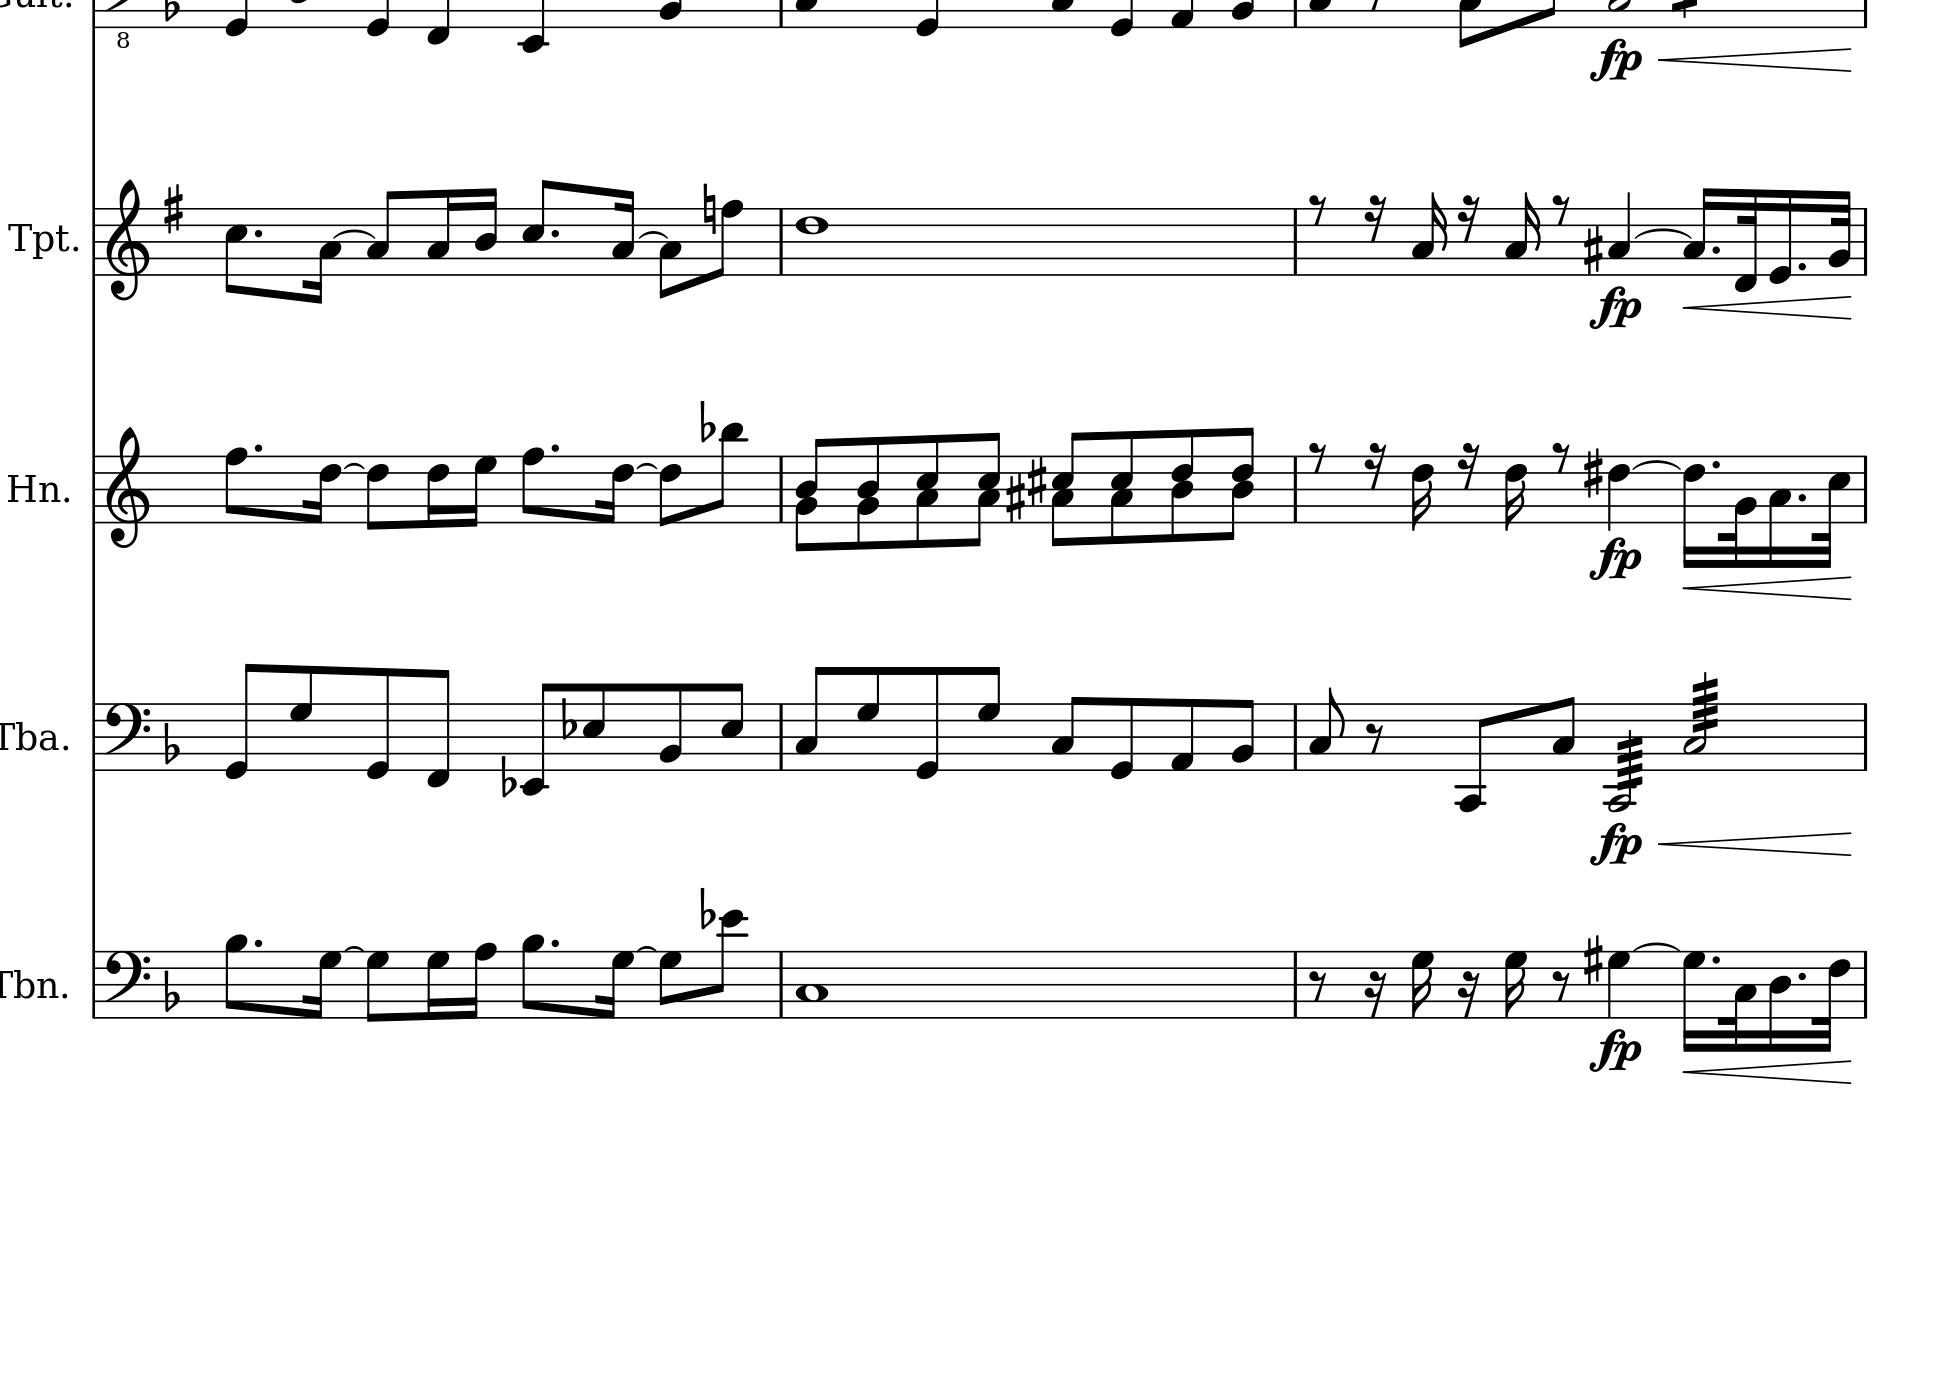16_0: (1767, 187, 1794, 286)
16_3: (303, 205, 340, 304), (1504, 190, 1542, 276), (1767, 453, 1794, 570), (1681, 184, 1716, 276), (1413, 190, 1449, 277), (424, 187, 459, 277), (610, 187, 636, 277)
16_4: (1767, 948, 1794, 1054), (472, 184, 499, 277)
16_6: (1681, 451, 1707, 568), (597, 454, 634, 526), (304, 453, 340, 526), (1503, 451, 1530, 532), (424, 453, 451, 529), (1410, 451, 1435, 532)
16_7: (1680, 946, 1707, 1054), (597, 948, 634, 1020), (304, 949, 342, 1020), (463, 453, 496, 529), (424, 948, 450, 1021), (1410, 948, 1435, 1020), (1503, 949, 1528, 1020)
16_8: (463, 940, 496, 1020)
1_3: (793, 949, 829, 1020)
1_6: (795, 207, 829, 279)
32_-1: (1732, 186, 1759, 292)
32_2: (1719, 453, 1758, 570), (1827, 187, 1854, 277)
32_3: (1719, 948, 1758, 1051)
32_5: (1812, 453, 1852, 568)
32_6: (1815, 948, 1851, 1053)
4_3: (1608, 189, 1633, 276)
4_6: (1606, 453, 1632, 532)
4_7: (1605, 948, 1632, 1018)
8_-1: (424, 666, 454, 790)
8_-2: (519, 679, 555, 796)
8_-4: (1455, 700, 1489, 811)
8_0: (220, 658, 261, 781), (913, 664, 943, 784), (363, 664, 393, 783), (1108, 694, 1137, 781)
8_1: (1167, 696, 1197, 772)
8_11: (709, 421, 745, 525)
8_12: (706, 907, 745, 1018)
8_2: (657, 681, 685, 772), (1230, 697, 1257, 772)
8_3: (793, 664, 828, 772), (1308, 685, 1347, 771), (364, 187, 399, 276), (1050, 694, 1083, 772), (657, 205, 682, 300), (1551, 694, 1576, 772)
8_5: (520, 177, 553, 277), (580, 679, 607, 772), (718, 681, 745, 772), (223, 205, 249, 297)
8_6: (364, 451, 390, 532), (657, 454, 682, 529)
8_7: (286, 661, 315, 772), (855, 664, 882, 772), (976, 664, 1002, 772), (364, 948, 390, 1023), (657, 948, 682, 1020)
8_8: (712, 198, 745, 280), (223, 445, 247, 525), (520, 445, 544, 525)
8_9: (223, 931, 249, 1018), (520, 931, 544, 1020)
Crescendo_hairpin: (1662, 829, 1854, 859), (1689, 292, 1855, 322), (1680, 576, 1854, 601), (1687, 1059, 1854, 1083)
Fclef: (100, 946, 151, 1020), (102, 700, 151, 772)
Flat: (160, 718, 181, 766), (496, 753, 517, 799), (162, 967, 181, 1014), (697, 885, 715, 931), (697, 399, 715, 444), (559, 696, 577, 741)
Gclef: (103, 177, 151, 301), (103, 424, 151, 547)
Hn: (4, 466, 61, 508)
Natural: (702, 181, 717, 237)
Rests16: (1362, 193, 1389, 244), (1362, 441, 1389, 492), (1456, 439, 1482, 492), (1456, 967, 1482, 1018), (1456, 193, 1482, 243), (1363, 967, 1387, 1018)
Rests8: (1363, 720, 1386, 754), (1308, 967, 1329, 1003), (1551, 967, 1572, 1003), (1308, 190, 1329, 225), (1308, 438, 1329, 472), (1551, 193, 1572, 226), (1551, 439, 1572, 472)
Sharp: (160, 180, 187, 235), (1581, 933, 1605, 987), (1581, 223, 1605, 276), (1582, 445, 1605, 501)
Single_barline: (1857, 456, 1875, 523), (1287, 702, 1305, 769), (772, 208, 790, 274), (772, 703, 790, 769), (1857, 703, 1875, 769), (1287, 949, 1305, 1015), (1287, 456, 1305, 520), (1857, 949, 1873, 1018), (1857, 208, 1873, 276), (772, 454, 789, 522), (87, 703, 103, 771), (87, 949, 103, 1017), (87, 208, 103, 274), (772, 949, 789, 1015), (1287, 208, 1303, 273), (87, 454, 102, 523)
Slur: (1633, 226, 1692, 240), (1632, 457, 1683, 472), (1632, 940, 1681, 952), (331, 228, 376, 240), (637, 229, 667, 240), (342, 462, 366, 471), (634, 462, 658, 471), (342, 945, 366, 952), (634, 945, 658, 952)
Stem: (1600, 700, 1644, 816), (1684, 672, 1722, 771)
Tba: (1, 718, 52, 751)
Tbn: (1, 958, 60, 1003)
Tpt: (6, 214, 70, 259)
dot: (250, 225, 265, 241), (250, 439, 265, 454), (547, 226, 562, 240), (250, 934, 264, 949), (547, 441, 561, 454), (1708, 457, 1722, 471), (547, 936, 561, 949), (1795, 969, 1809, 982), (1797, 258, 1809, 273), (1710, 243, 1722, 256), (1795, 490, 1809, 502), (1710, 952, 1722, 966)
fp: (1587, 283, 1642, 334), (1587, 535, 1642, 585), (1588, 37, 1642, 85), (1588, 1027, 1641, 1075), (1588, 822, 1641, 868)
